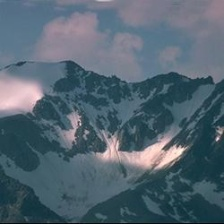neutral: (8, 19, 222, 217)
